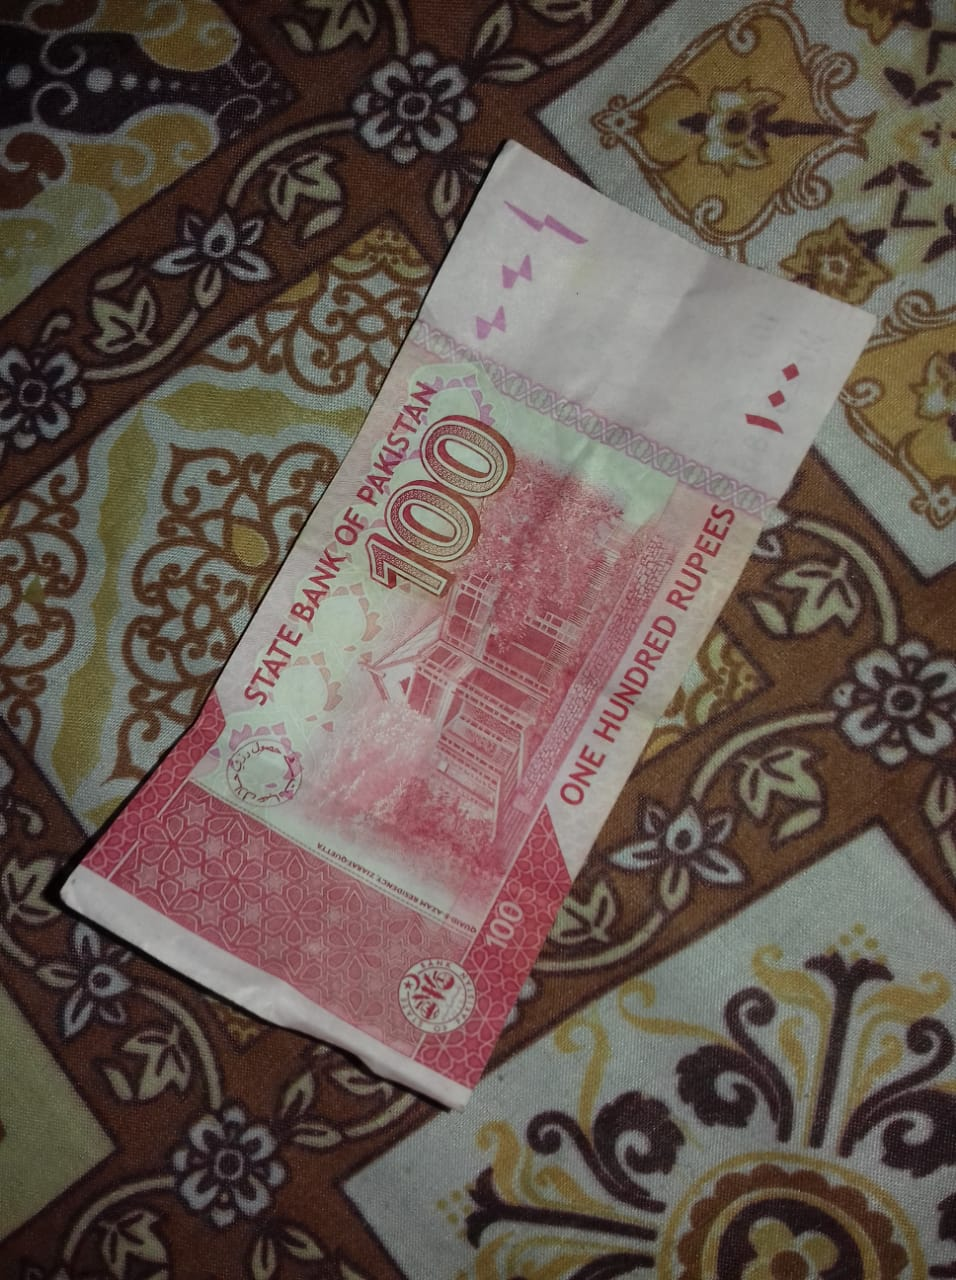100 rupee: (64, 129, 884, 1108)
